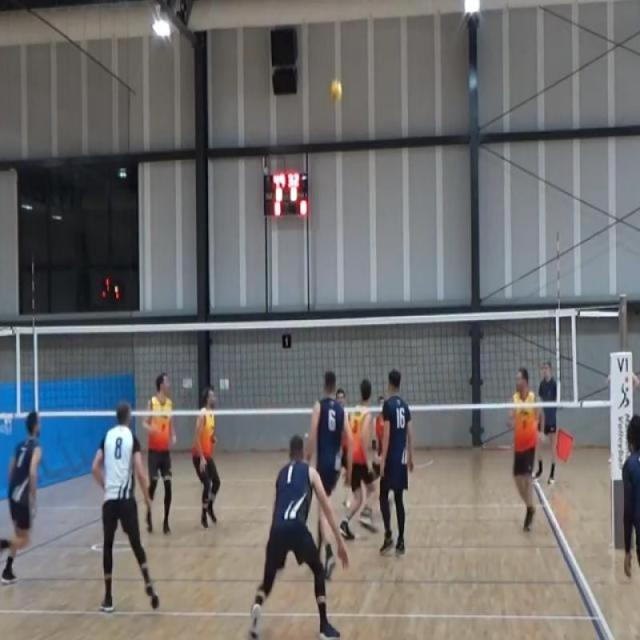volleyball: (328, 77, 345, 104)
